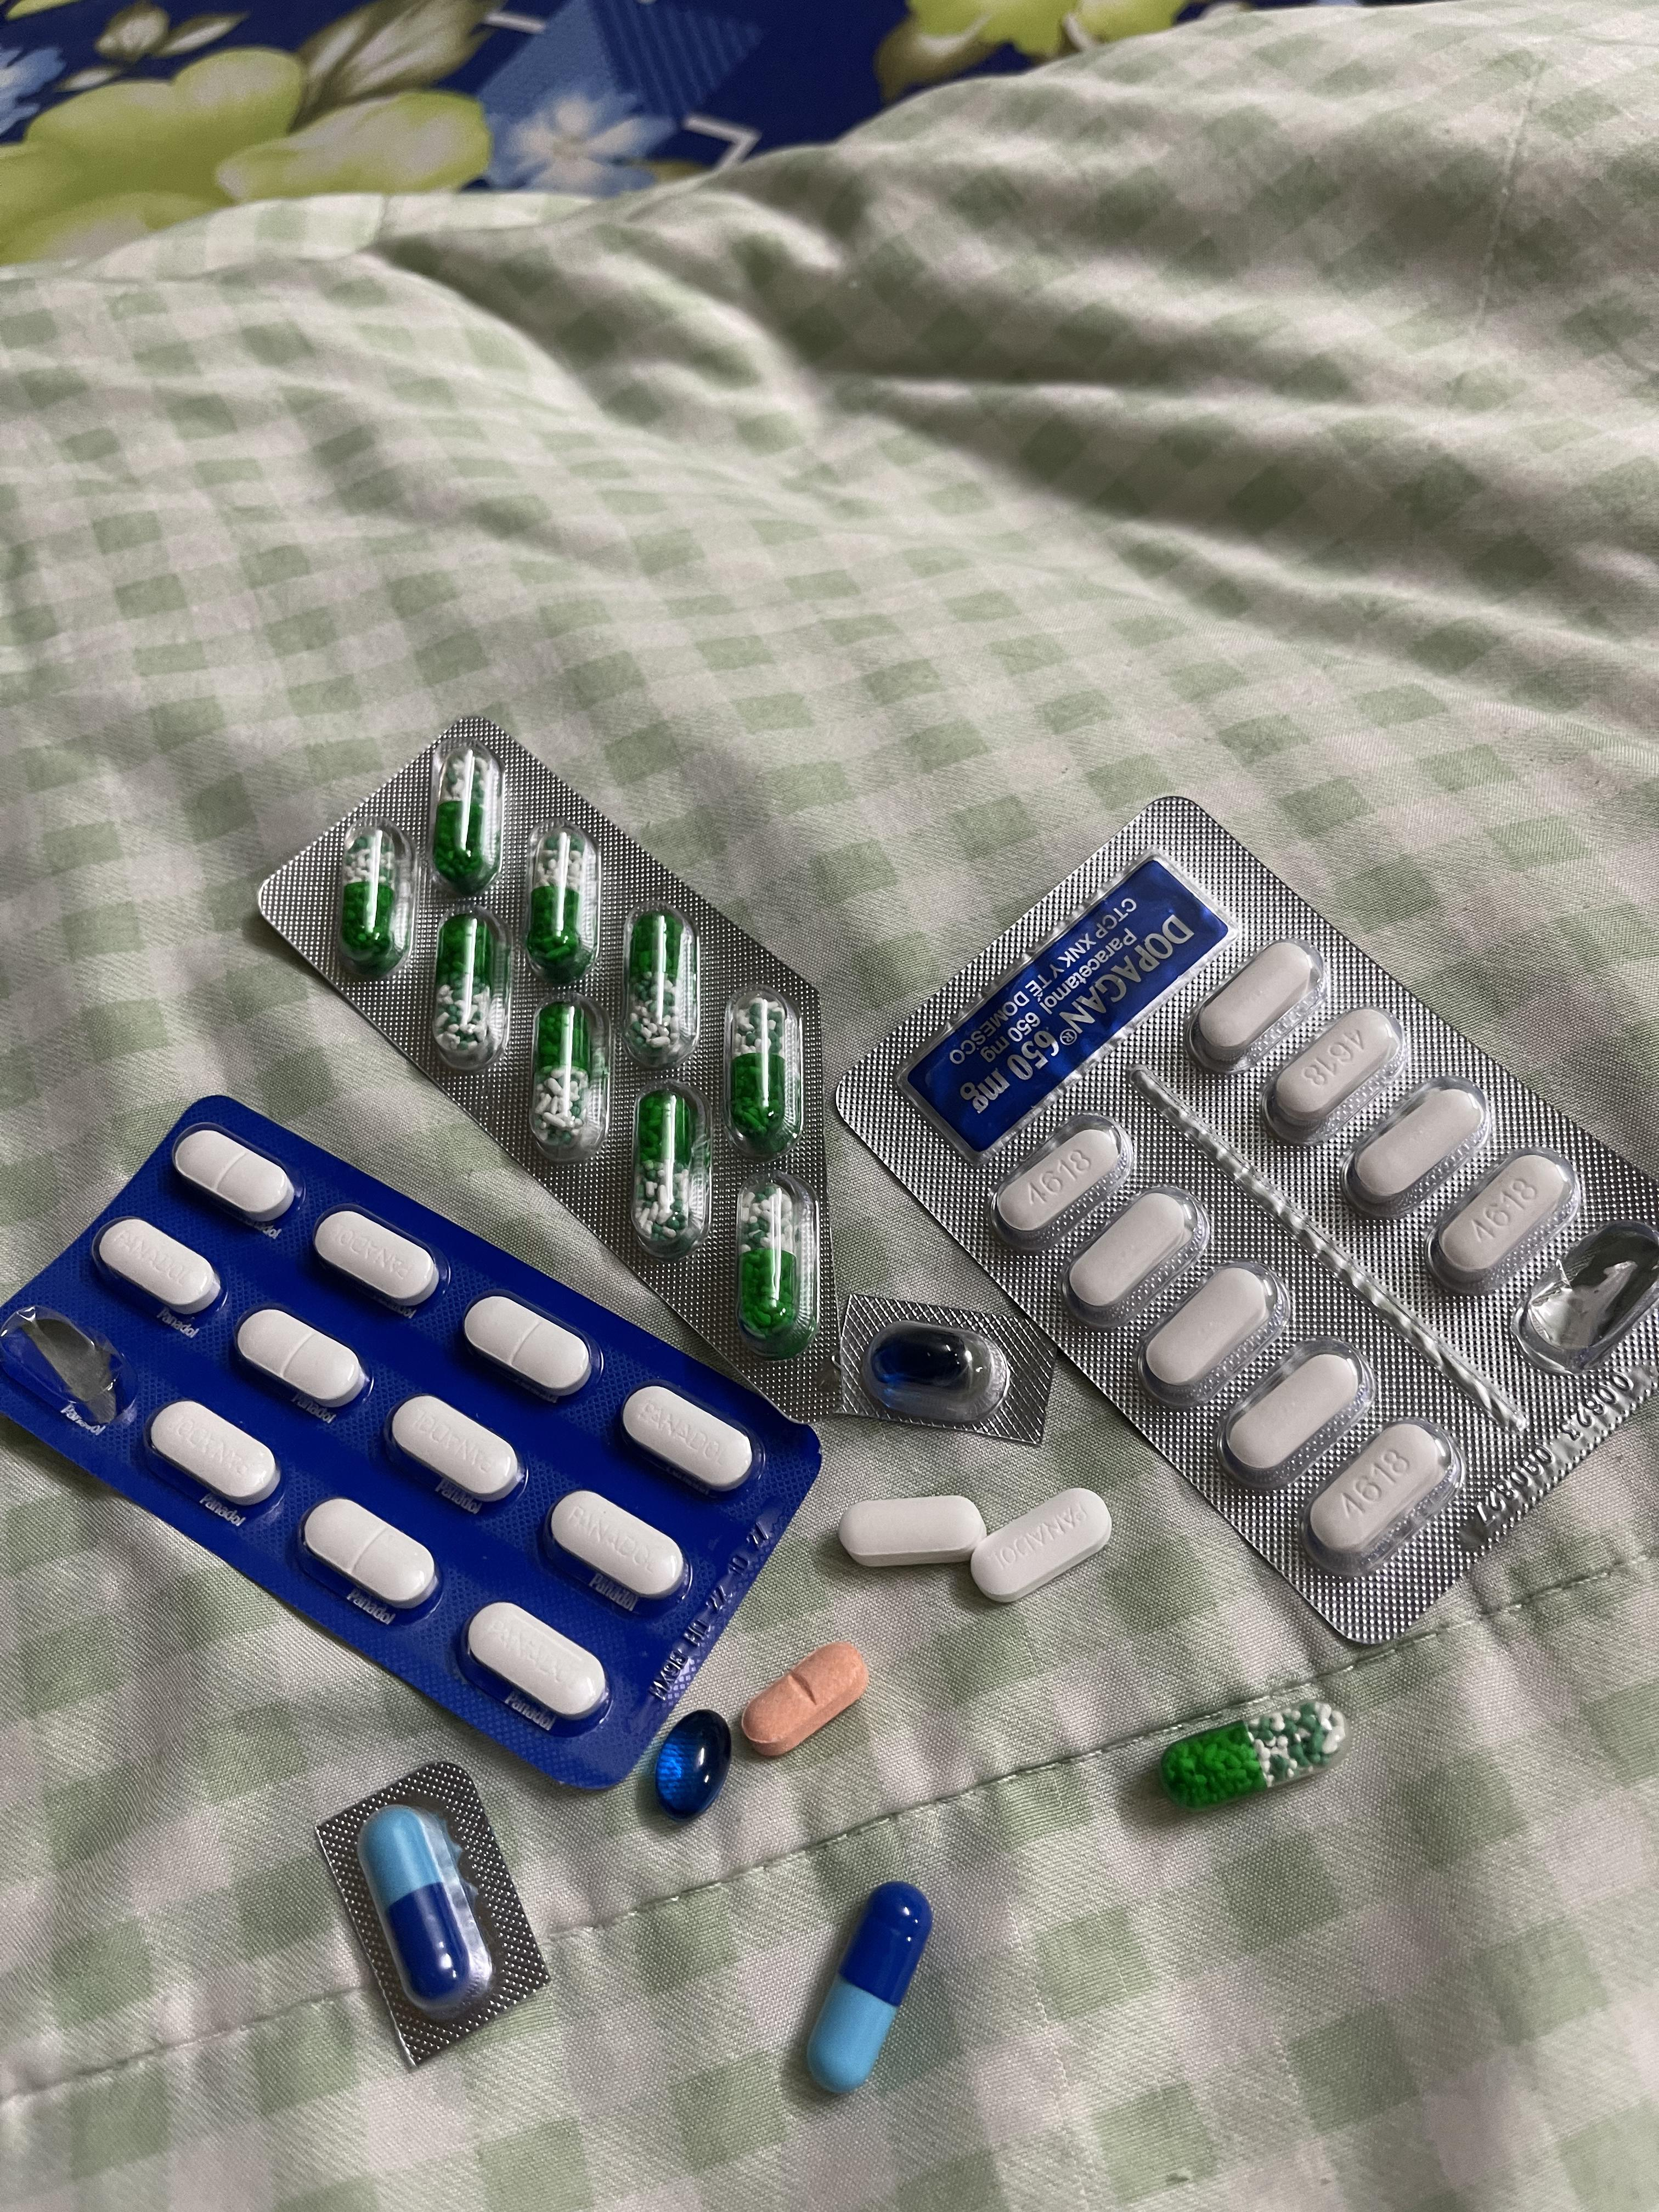Lincomyxin_500mg: (653, 1709, 734, 1817), (877, 1331, 974, 1386)
Loratadine_10mg: (744, 1642, 856, 1752)
Paracetamol_350mg: (464, 1601, 610, 1728), (544, 1489, 687, 1606), (622, 1385, 762, 1496), (972, 1489, 1112, 1599), (301, 1496, 434, 1611), (389, 1395, 523, 1505), (148, 1400, 279, 1508), (235, 1308, 368, 1414), (465, 1294, 594, 1400), (314, 1209, 443, 1312), (173, 1125, 300, 1228), (98, 1217, 223, 1318)
Paracetamol_500mg: (1307, 1416, 1466, 1578), (1218, 1336, 1373, 1493), (1429, 1144, 1581, 1298), (1342, 1073, 1490, 1221), (1121, 1238, 1263, 1390), (1263, 1000, 1406, 1146), (990, 1106, 1129, 1256), (1065, 1186, 1194, 1318), (1197, 942, 1319, 1061), (838, 1494, 979, 1569)
Paracetamol_650mg: (1162, 1700, 1349, 1806), (732, 1170, 812, 1346), (430, 907, 514, 1071), (532, 996, 610, 1160), (633, 1089, 708, 1252), (526, 827, 605, 982), (727, 989, 798, 1155), (627, 913, 694, 1066), (340, 822, 406, 972), (434, 742, 498, 894)
pill: (361, 1803, 491, 2019), (803, 1883, 925, 2095)
